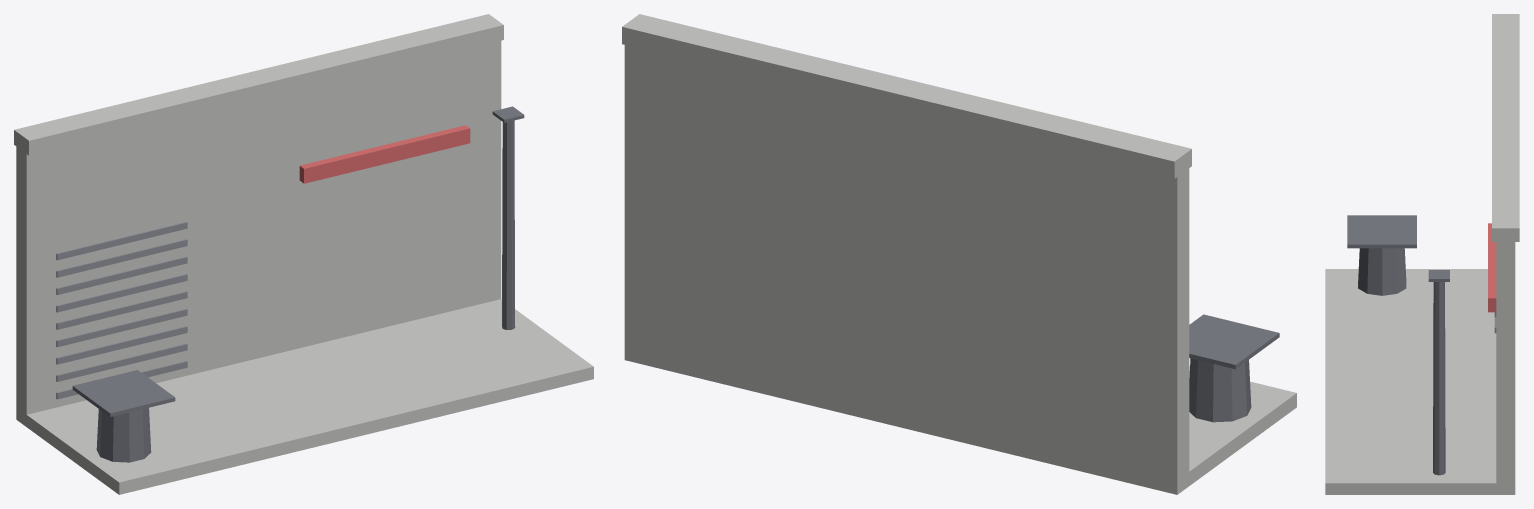
File: martial-arts-dojo-and-fight-stages-street-corner-set-81859fa2__18074.glb
3 renders of one model, left to right at view 1: azimuth 30°, elevation 25°; view 2: azimuth 150°, elevation 25°; view 3: azimuth 270°, elevation 25°, orthographic. The views are drawn at different scales.
Visible parts, largest first — view 1: street-corner-set; view 2: street-corner-set; view 3: street-corner-set.
Boxes of the visible parts, x1=… form: street-corner-set: x1=14, y1=14, x2=593, y2=494; street-corner-set: x1=622, y1=14, x2=1296, y2=494; street-corner-set: x1=1325, y1=14, x2=1519, y2=494.
Bounding box in the file's own units: 8 × 4.64 × 3.07.
